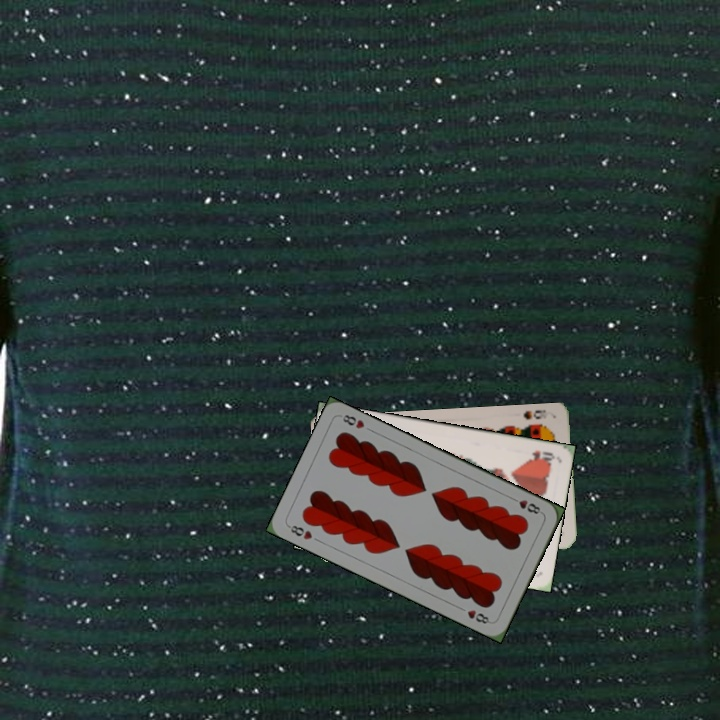H8: (507, 493, 545, 517), (284, 521, 315, 542)
HO: (524, 446, 557, 465)
S8: (519, 406, 554, 422)
